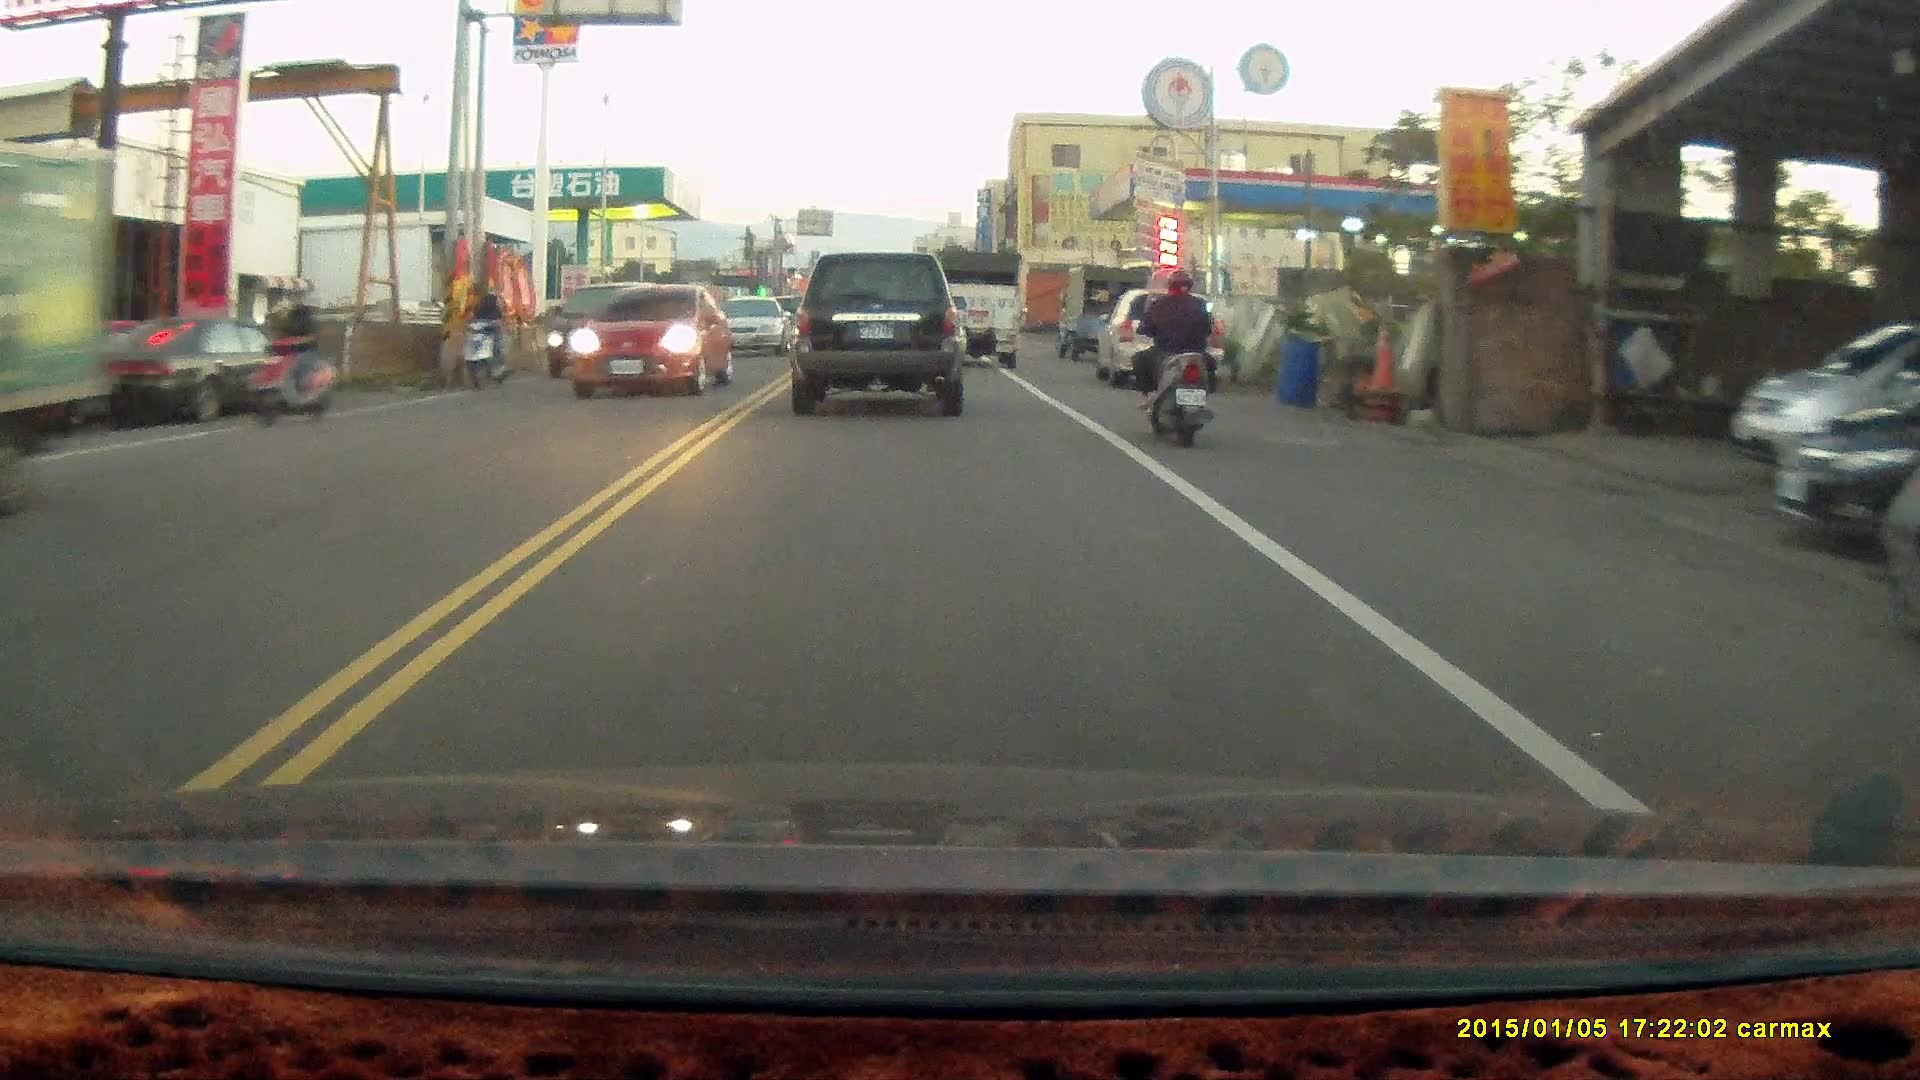rider: (1129, 266, 1224, 447), (239, 286, 340, 430), (449, 290, 508, 393)
vehicle: (787, 250, 968, 417), (78, 320, 333, 431), (571, 284, 738, 402), (1094, 288, 1227, 388), (547, 284, 668, 382), (930, 250, 1021, 371), (702, 295, 796, 354)
